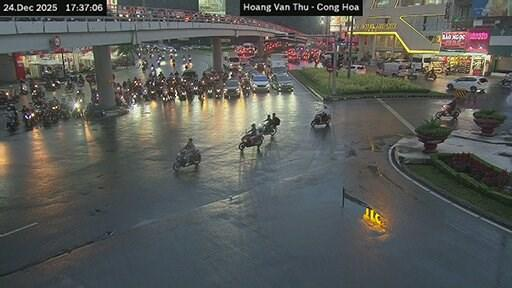motorbike: (172, 149, 199, 171), (237, 133, 262, 149), (435, 103, 460, 117), (311, 112, 329, 126), (70, 98, 83, 116), (258, 122, 275, 135), (22, 109, 34, 127), (6, 113, 18, 130), (32, 88, 44, 102), (44, 80, 60, 90), (60, 104, 70, 118), (498, 76, 511, 86), (19, 81, 28, 94), (205, 86, 213, 97), (425, 71, 435, 79), (406, 71, 416, 79), (64, 82, 73, 90), (214, 88, 221, 98), (179, 89, 185, 99)
